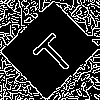T: (25, 25, 78, 79)
